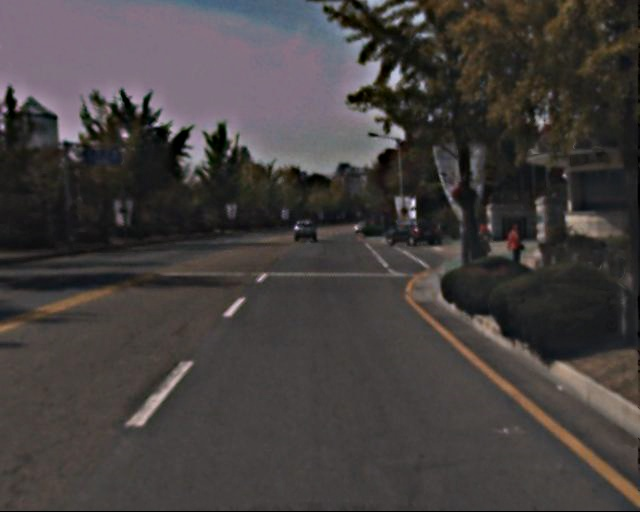person: (503, 222, 528, 284)
